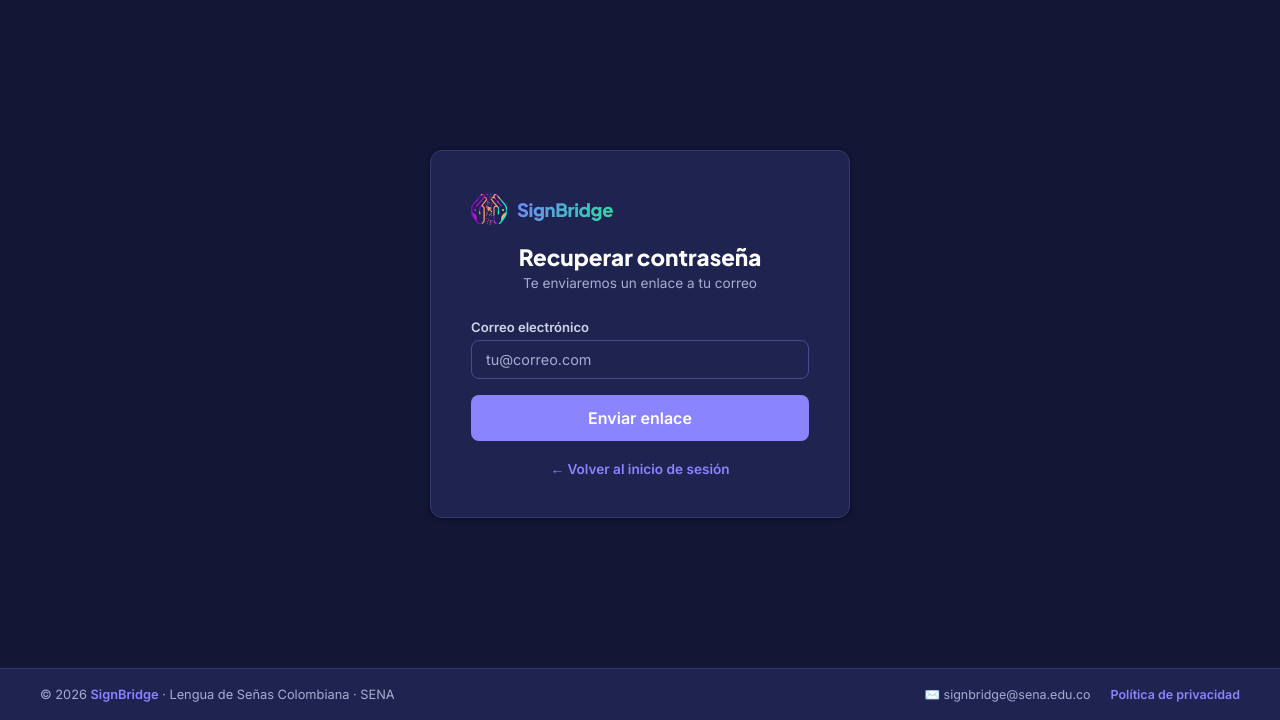
ForgotPassword › should send the recovery link and hide the form
In the field labelled "Correo electrónico": (640, 360) [471,340,809,379], type "ana@example.com"
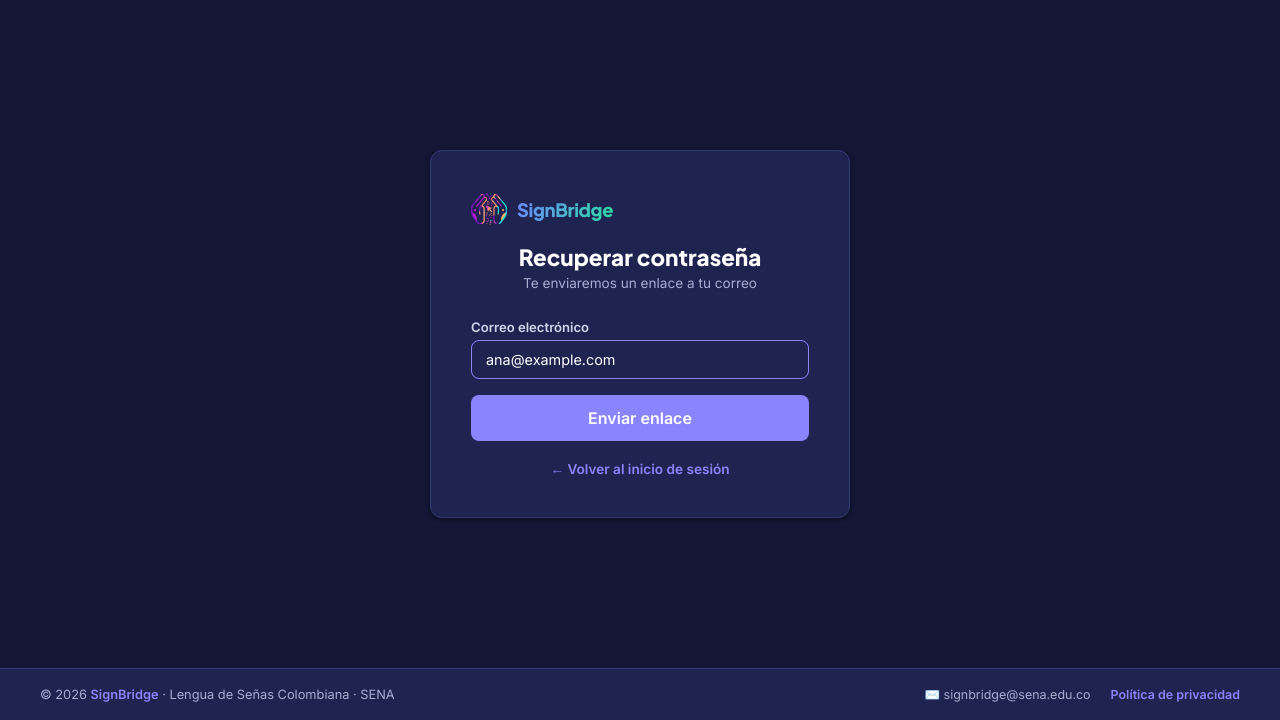
Click the button "Enviar enlace": (640, 418) [471,395,809,441]
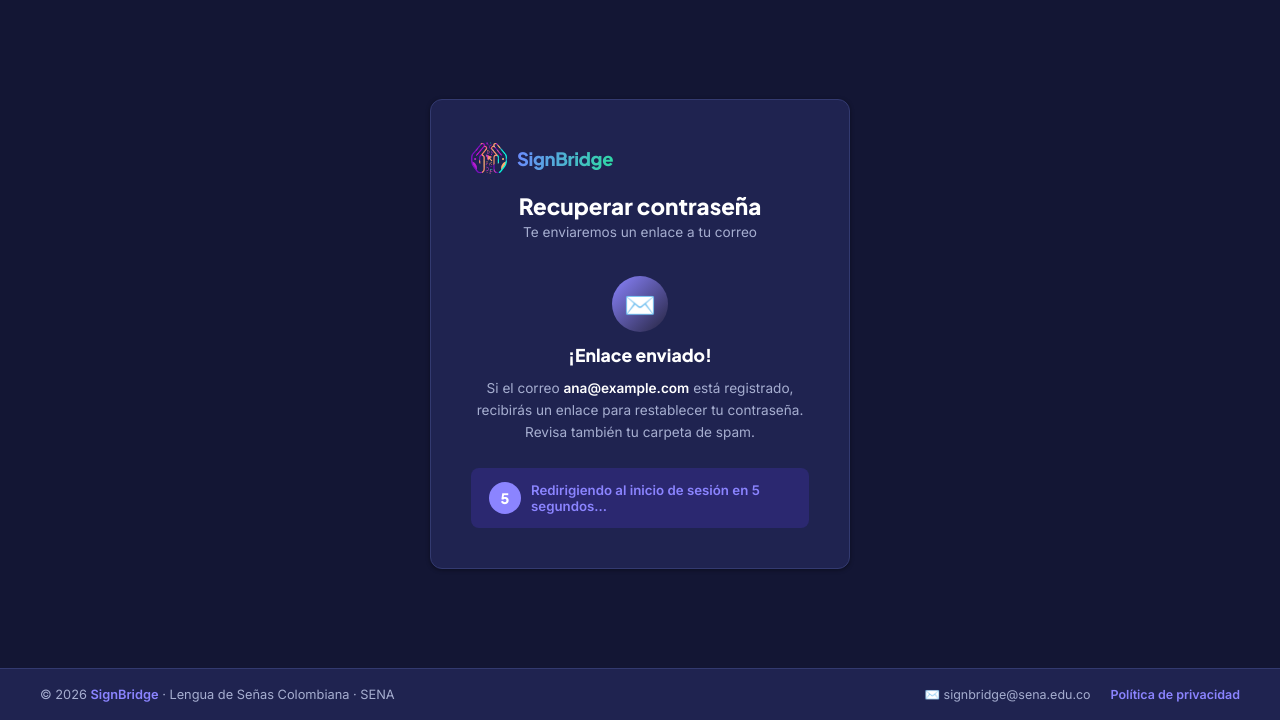
Check: the button "Enviar enlace" is gone
